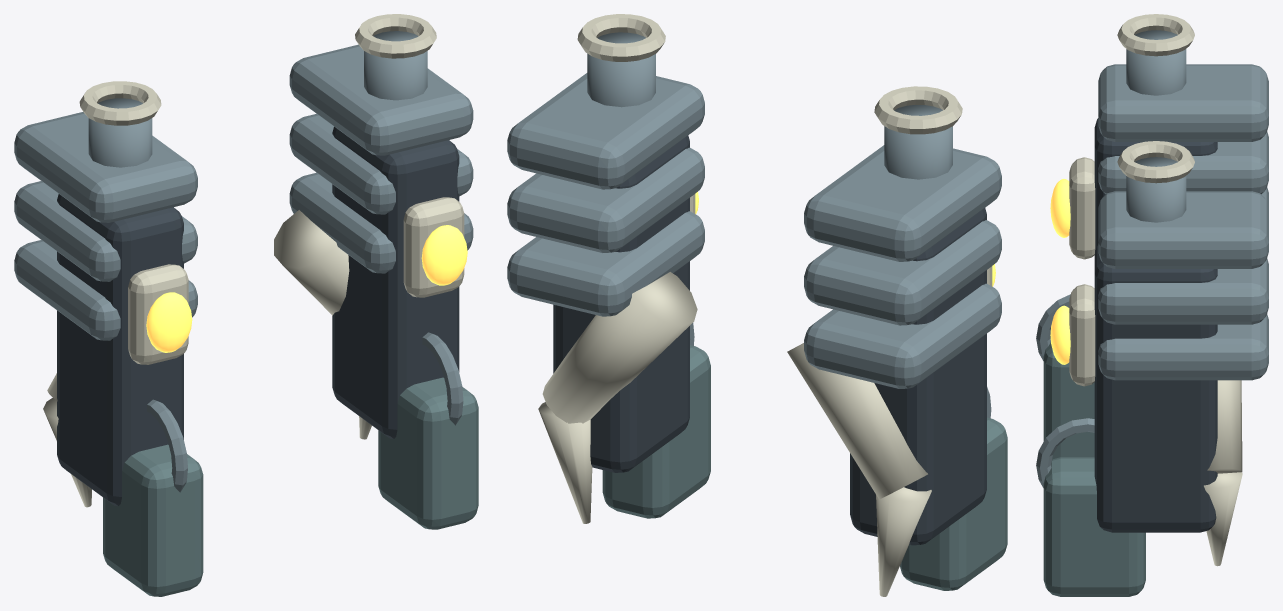
Rendered from YK_03_Soryeong_Weapon_E02.glb.
3 views of the same model, side by side, from view 1: azimuth 30°, elevation 25°; view 2: azimuth 150°, elevation 25°; view 3: azimuth 270°, elevation 25° (orthographic). The views are drawn at different scales.
Visible parts, largest first — view 1: SM_YK_03_Soryeong_Weapon_P00_L, SM_YK_03_Soryeong_Weapon_P00_R, SM_YK_03_Soryeong_Weapon_P01_L, SM_YK_03_Soryeong_Weapon_P01_R, SM_YK_03_Soryeong_Weapon_P02_R, SM_YK_03_Soryeong_Weapon_P02_L; view 2: SM_YK_03_Soryeong_Weapon_P01_L, SM_YK_03_Soryeong_Weapon_P01_R, SM_YK_03_Soryeong_Weapon_P00_L, SM_YK_03_Soryeong_Weapon_P00_R, SM_YK_03_Soryeong_Weapon_P02_R, SM_YK_03_Soryeong_Weapon_P02_L; view 3: SM_YK_03_Soryeong_Weapon_P00_R, SM_YK_03_Soryeong_Weapon_P01_R, SM_YK_03_Soryeong_Weapon_P01_L, SM_YK_03_Soryeong_Weapon_P00_L, SM_YK_03_Soryeong_Weapon_P02_R.
Part boxes in pixels (x1,y1,x2,y2): SM_YK_03_Soryeong_Weapon_P00_L: (57,81,203,596); SM_YK_03_Soryeong_Weapon_P00_R: (332,14,478,529); SM_YK_03_Soryeong_Weapon_P01_L: (14,112,197,340); SM_YK_03_Soryeong_Weapon_P01_R: (289,44,473,273); SM_YK_03_Soryeong_Weapon_P02_R: (274,210,371,439); SM_YK_03_Soryeong_Weapon_P02_L: (43,373,91,507); SM_YK_03_Soryeong_Weapon_P01_L: (804,145,1001,388); SM_YK_03_Soryeong_Weapon_P01_R: (507,73,704,316); SM_YK_03_Soryeong_Weapon_P00_L: (850,86,1007,590); SM_YK_03_Soryeong_Weapon_P00_R: (553,14,710,518); SM_YK_03_Soryeong_Weapon_P02_R: (538,272,697,523); SM_YK_03_Soryeong_Weapon_P02_L: (787,343,931,596); SM_YK_03_Soryeong_Weapon_P00_R: (1036,141,1217,596); SM_YK_03_Soryeong_Weapon_P01_R: (1098,191,1268,380); SM_YK_03_Soryeong_Weapon_P01_L: (1098,64,1268,207); SM_YK_03_Soryeong_Weapon_P00_L: (1036,14,1217,459); SM_YK_03_Soryeong_Weapon_P02_R: (1204,380,1242,566).
Bounding box in the file's own units: 0.61 × 0.7004 × 0.341.
